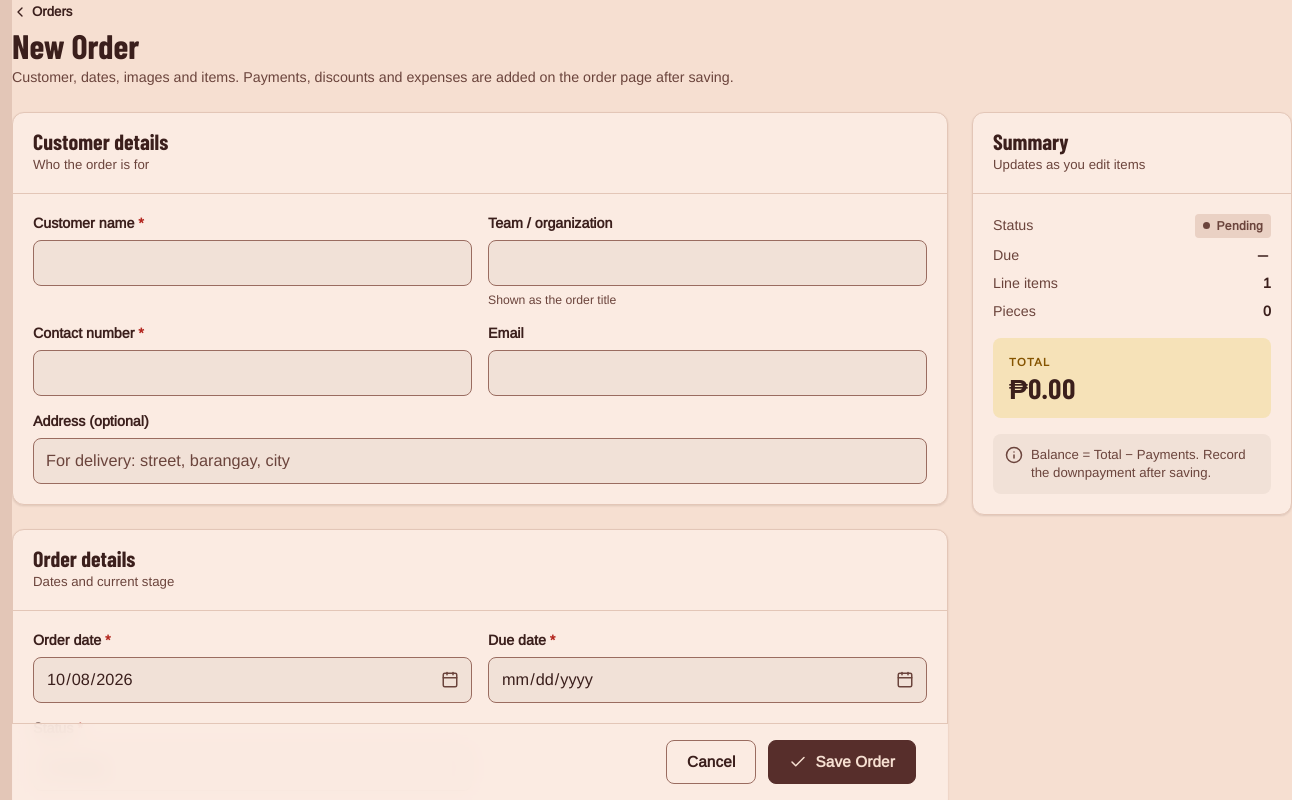
Test case: the checks before any request (OR-3) › says how many days are between the dates once both are real
The width and height of the screenshot is (1292, 800).
Expected: the heading "New Order" is shown, [12,25,139,66]
Type "2026-10-20" into the date field labelled "Due date *". click: {"x": 708, "y": 680}
box: [489,658,926,702]
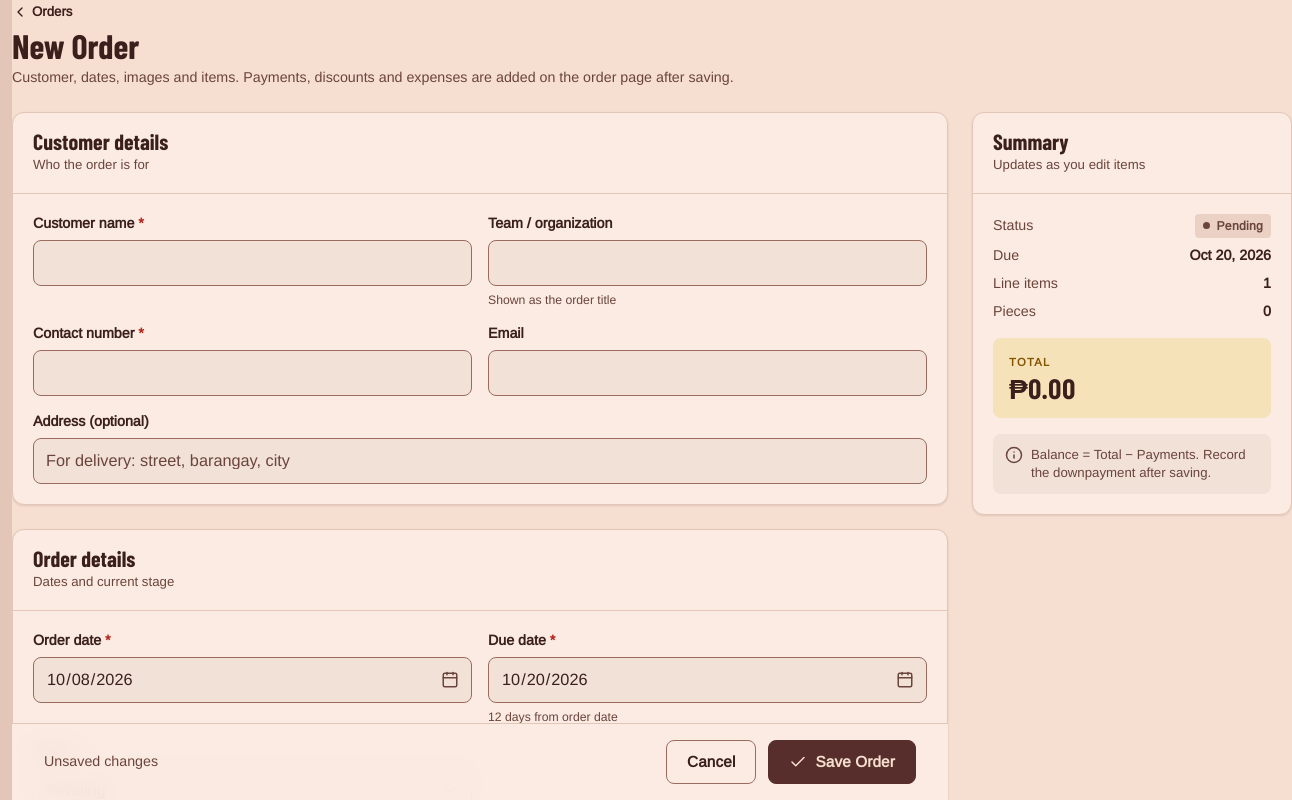
Result: the text "12 days from order date" is shown at [488,710,618,724]
Type "2026-10-08" into the date field labelled "Due date *". click: {"x": 708, "y": 680}
box: [489,658,926,702]
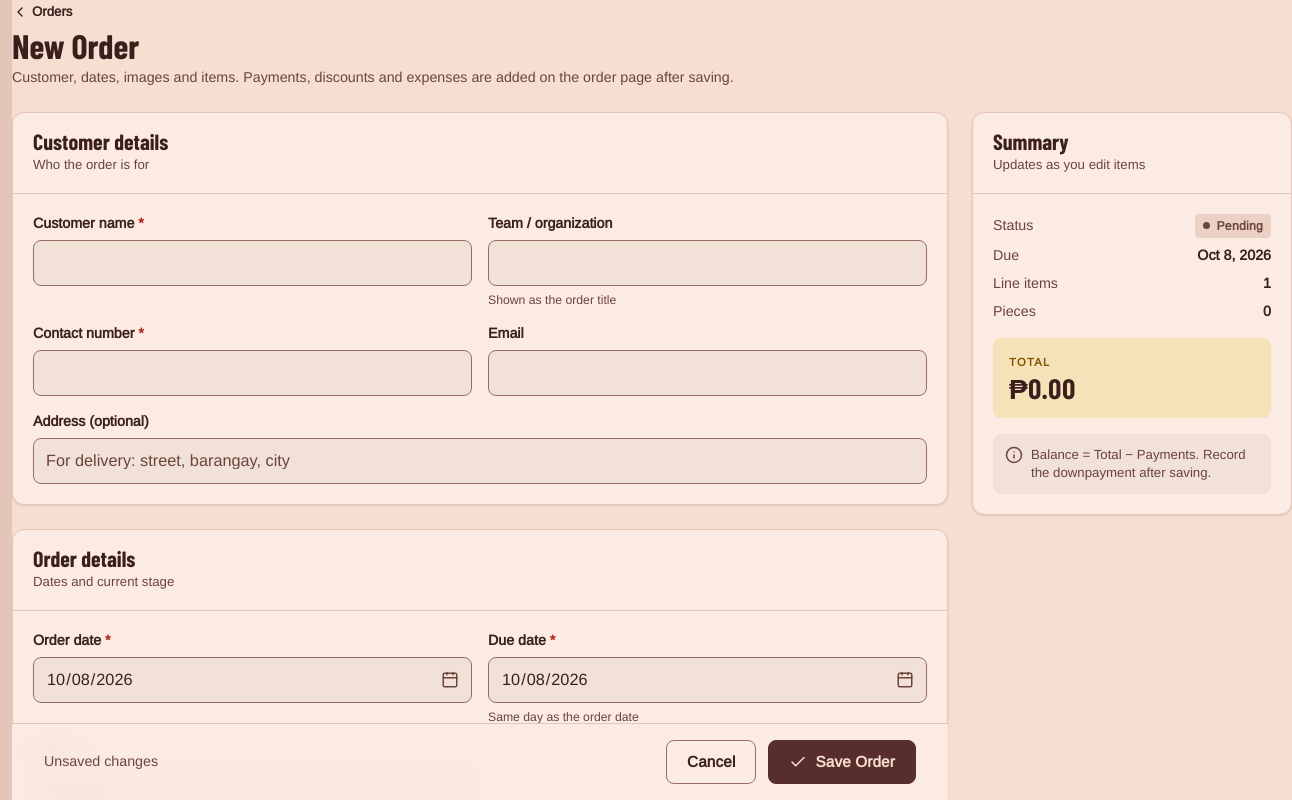
Result: the text "Same day as the order date" is shown at [488,710,639,724]
